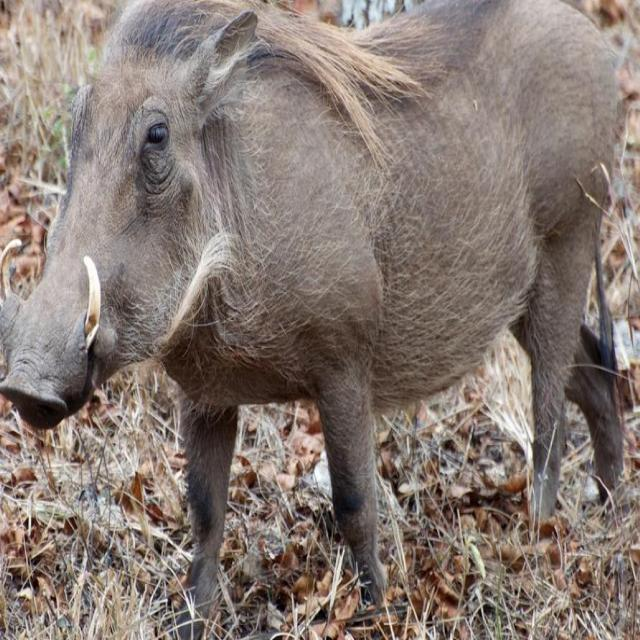pig: (0, 2, 622, 615)
